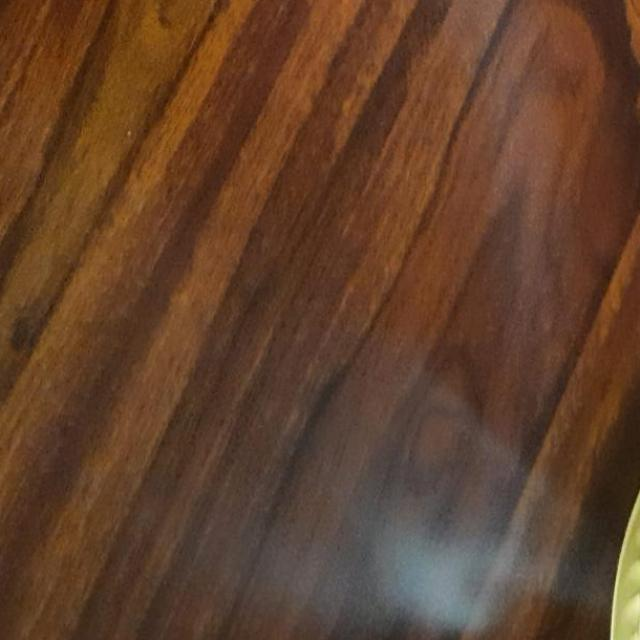fire: (194, 319, 606, 640)
